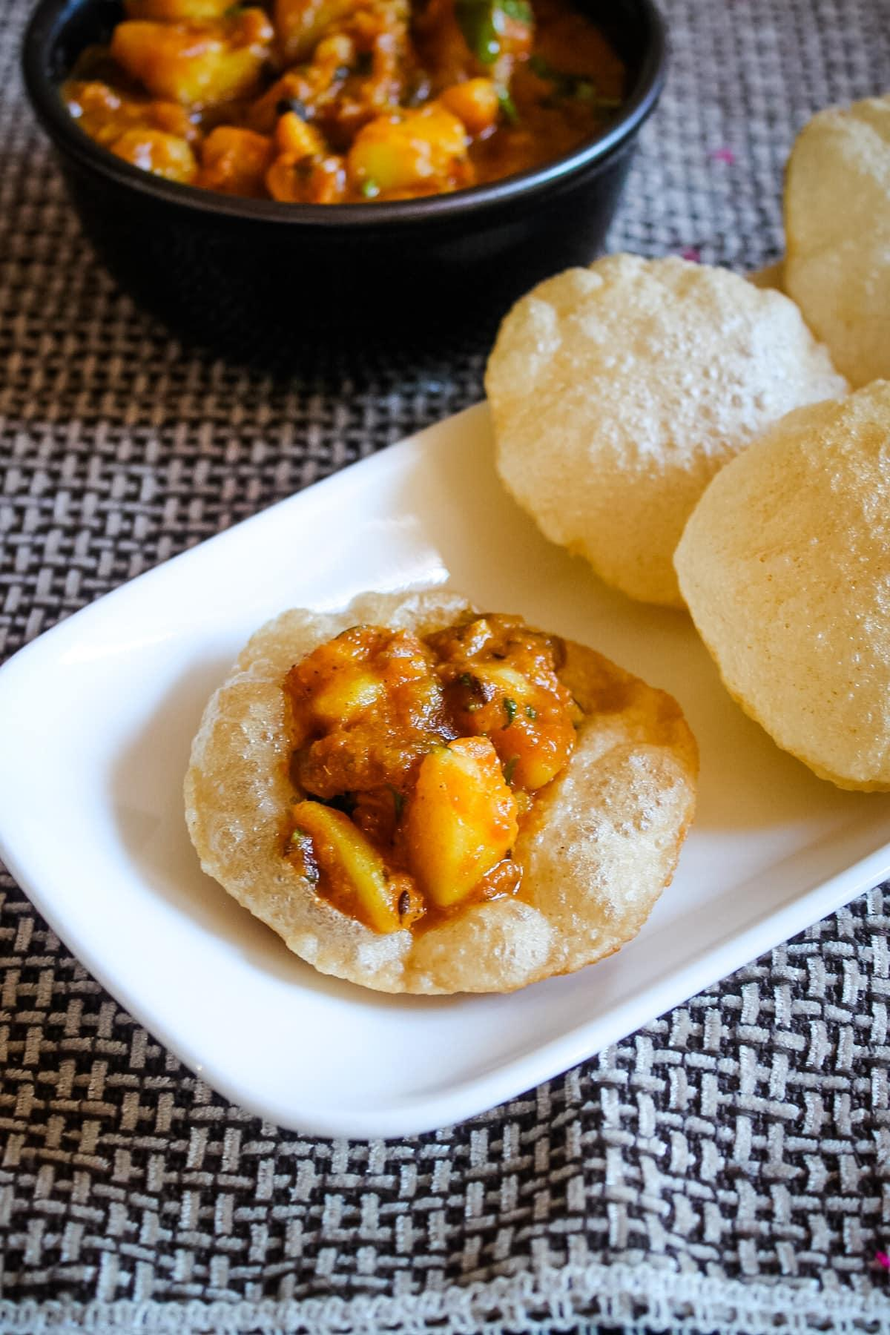puri: (582, 260, 890, 864)
